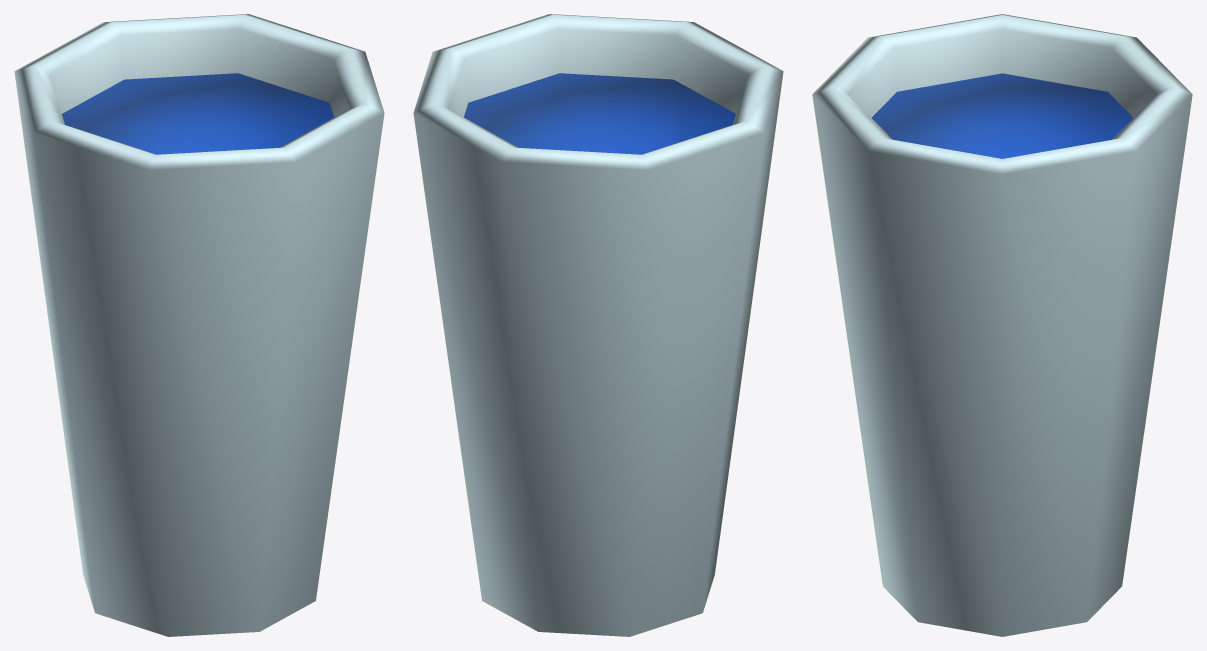
Rendered from Water.fbx.
The picture shows the model from 3 angles, left to right: view 1: azimuth 30°, elevation 25°; view 2: azimuth 150°, elevation 25°; view 3: azimuth 270°, elevation 25°; orthographic projection.
Parts seen in each view (by area): view 1: Water; view 2: Water; view 3: Water.
Part boxes in pixels (x1=…): Water: x1=14, y1=14, x2=384, y2=636; Water: x1=413, y1=14, x2=783, y2=636; Water: x1=812, y1=14, x2=1192, y2=636.
Size of the model in its own units: 20.58 by 29.81 by 20.58.
